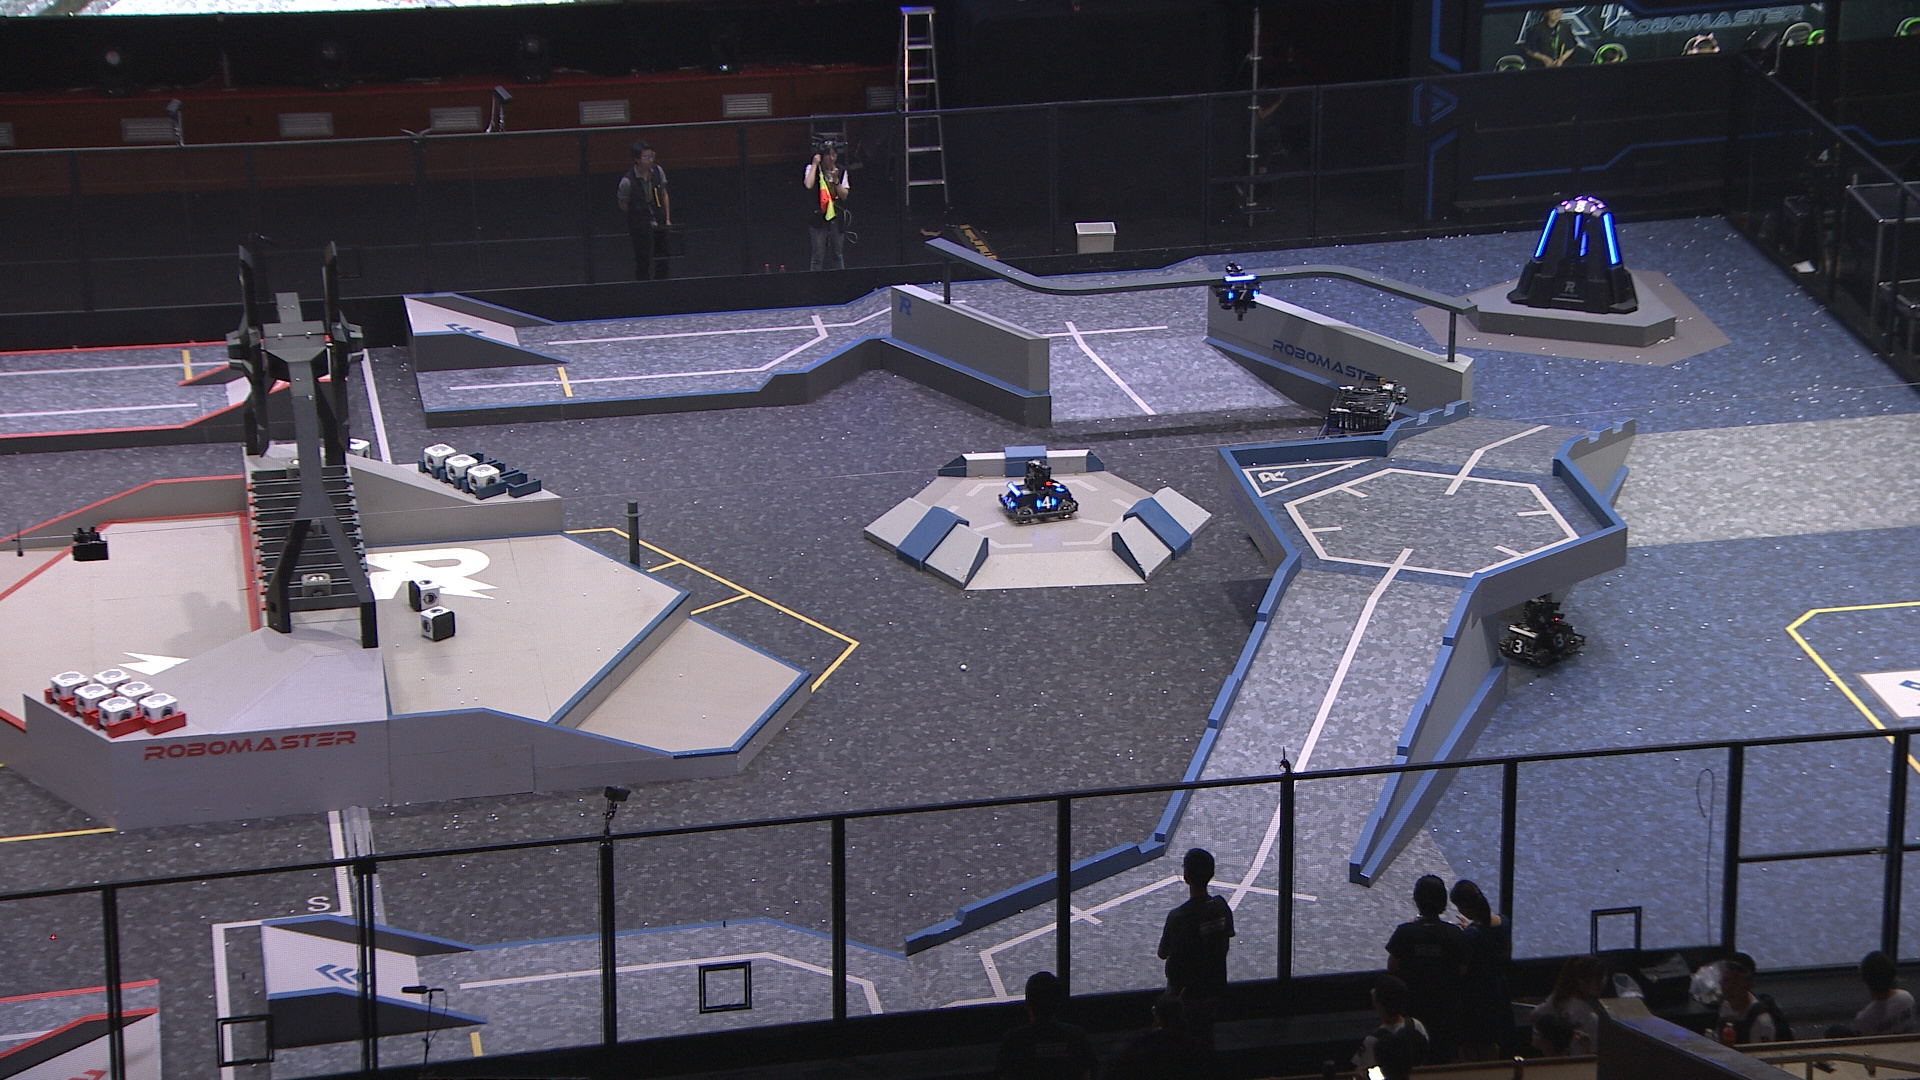armor: (1532, 206, 1557, 261), (1600, 214, 1621, 266), (1225, 286, 1261, 302), (1547, 629, 1569, 651), (1571, 214, 1585, 243), (1033, 495, 1059, 510), (1046, 476, 1065, 495), (1509, 638, 1528, 655), (1001, 493, 1017, 510)
base: (1506, 194, 1640, 316)
car: (1302, 377, 1414, 498), (1494, 588, 1594, 669), (994, 458, 1079, 529)
ignore: (1564, 199, 1600, 214)
watcher: (1209, 261, 1263, 320)
